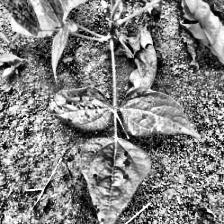ALS: (75, 133, 149, 224), (120, 83, 198, 138), (47, 84, 112, 137)
